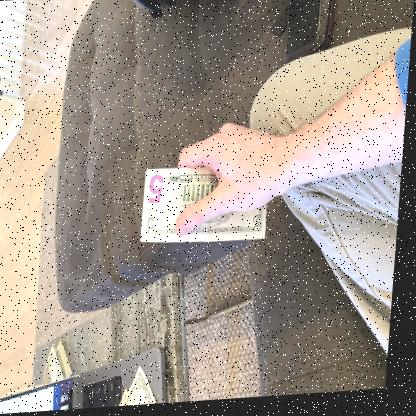five-back: (144, 163, 274, 249)
